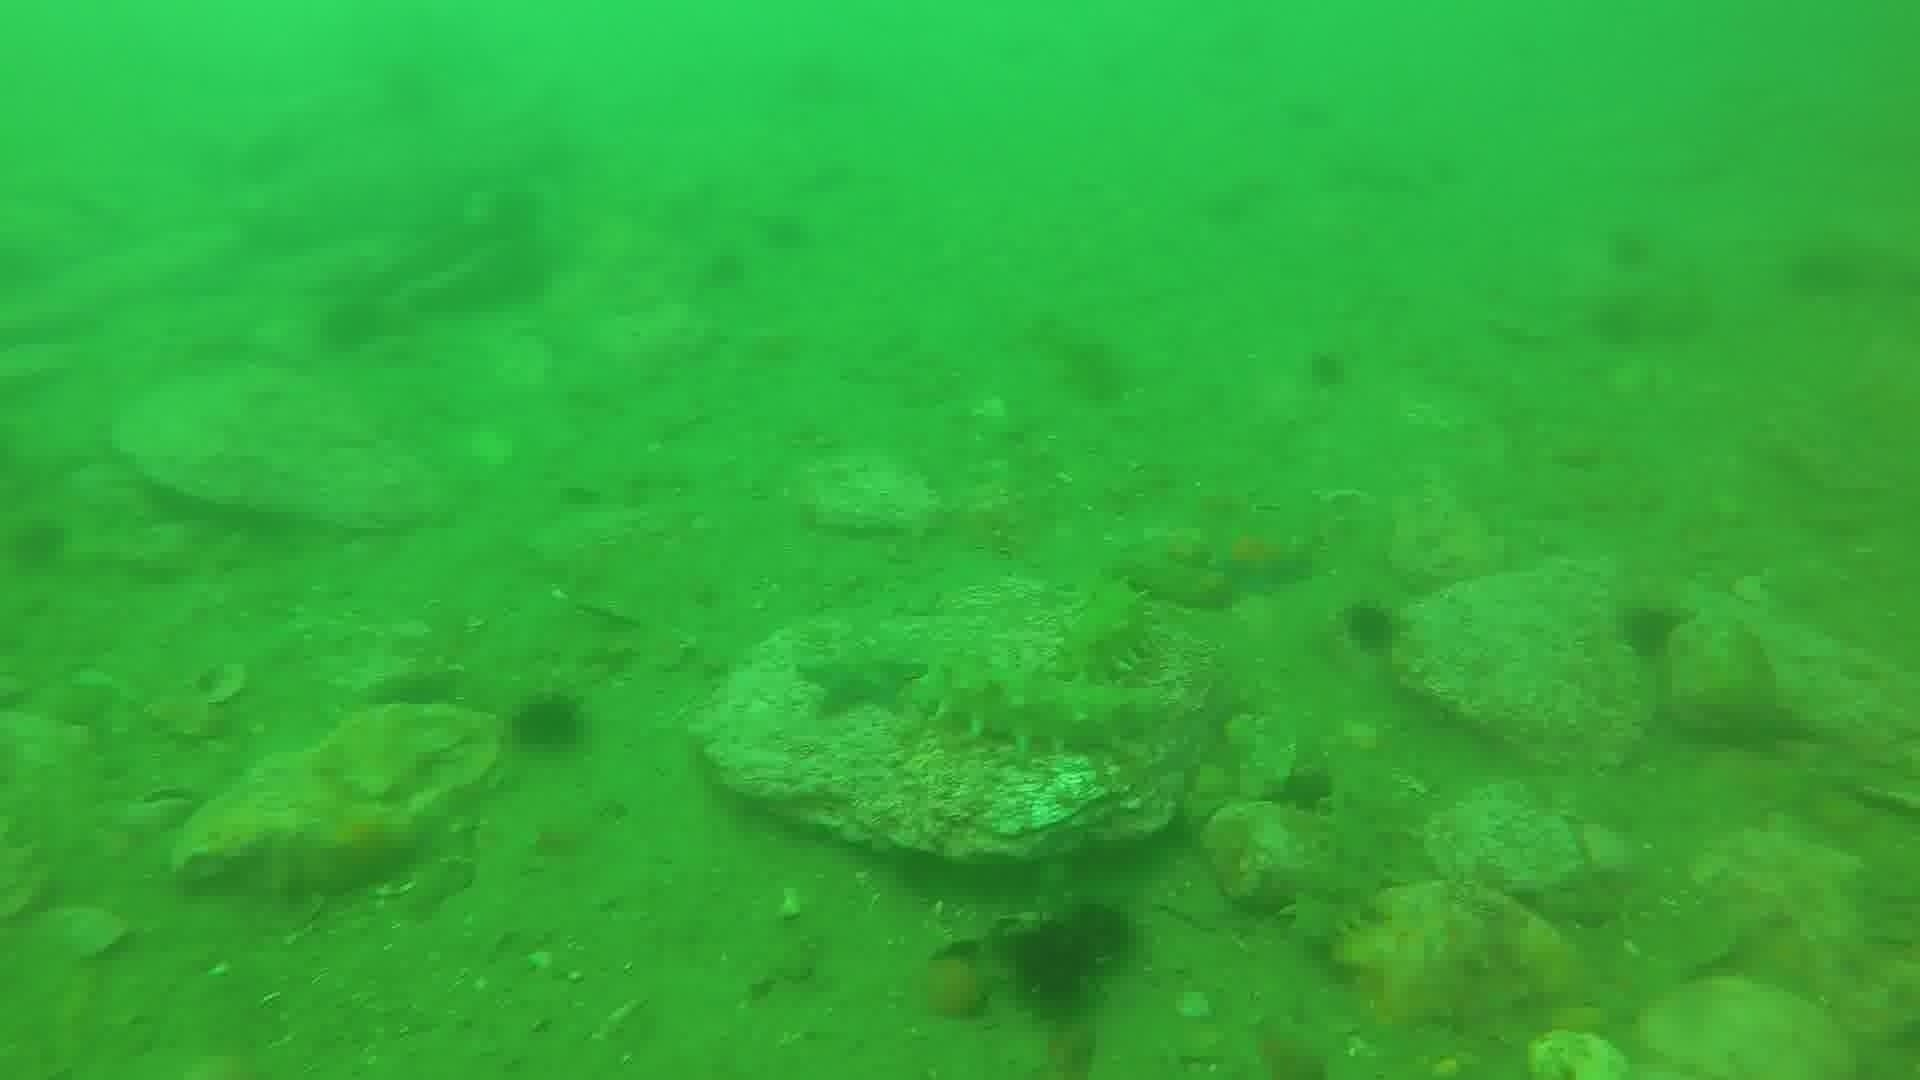echinus: (1001, 911, 1108, 1015), (1054, 895, 1141, 976), (506, 688, 591, 760), (1613, 597, 1691, 665), (3, 512, 74, 579), (1269, 753, 1338, 818), (1335, 592, 1406, 655), (1588, 293, 1652, 353), (1600, 212, 1664, 273), (1283, 74, 1346, 135), (1067, 349, 1124, 404), (802, 150, 858, 203), (1211, 177, 1267, 229), (1021, 305, 1077, 357), (754, 200, 808, 255), (334, 297, 389, 349), (696, 248, 752, 301), (483, 183, 538, 236), (1300, 344, 1356, 396)
holothurian: (903, 651, 1167, 761), (1286, 770, 1408, 968), (1100, 506, 1242, 625), (1051, 574, 1160, 691)
starfish: (793, 637, 928, 721), (1197, 514, 1317, 601)
